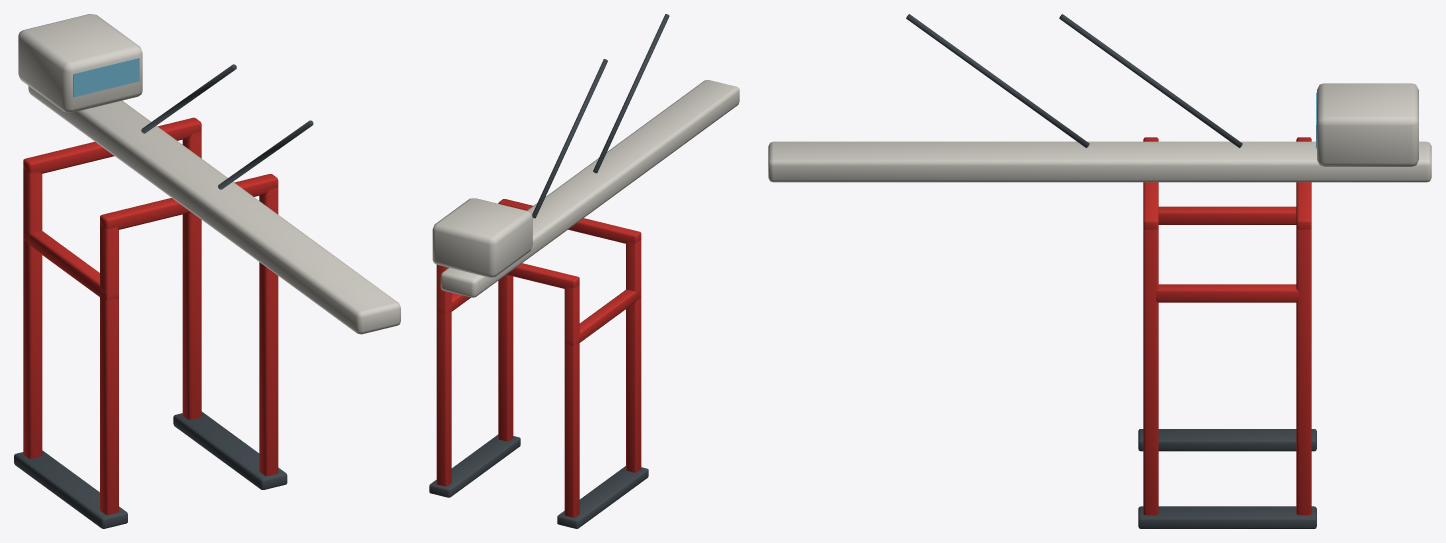
File: crane.glb
The picture shows the model from 3 angles, left to right: view 1: azimuth 30°, elevation 25°; view 2: azimuth 150°, elevation 25°; view 3: azimuth 270°, elevation 25°; orthographic projection. The views are drawn at different scales.
Parts seen in each view (by area): view 1: crane; view 2: crane; view 3: crane.
Part boxes in pixels (<box>): crane: <box>14,14,400,528</box>; crane: <box>429,14,739,528</box>; crane: <box>768,14,1431,528</box>.
Bounding box in the file's own units: 0.84 × 2.04 × 2.6.
